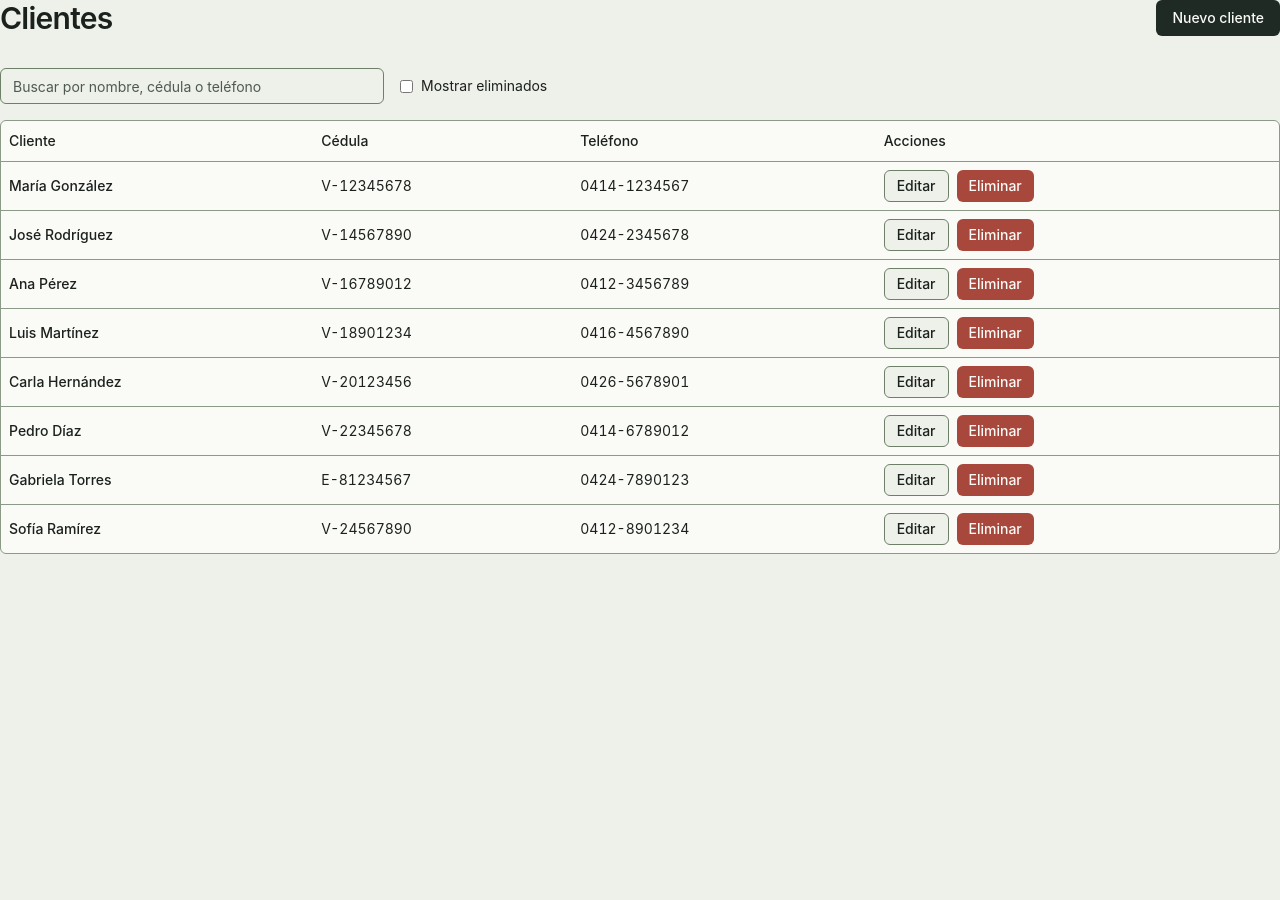
Scenario: ClientsPage › un alta con la cédula de un cliente eliminado ofrece reactivarlo y lo devuelve a la lista
This screenshot has width=1280, height=900.
Click the button "Nuevo cliente" at (1218,18), box 1156,0 -> 1279,36
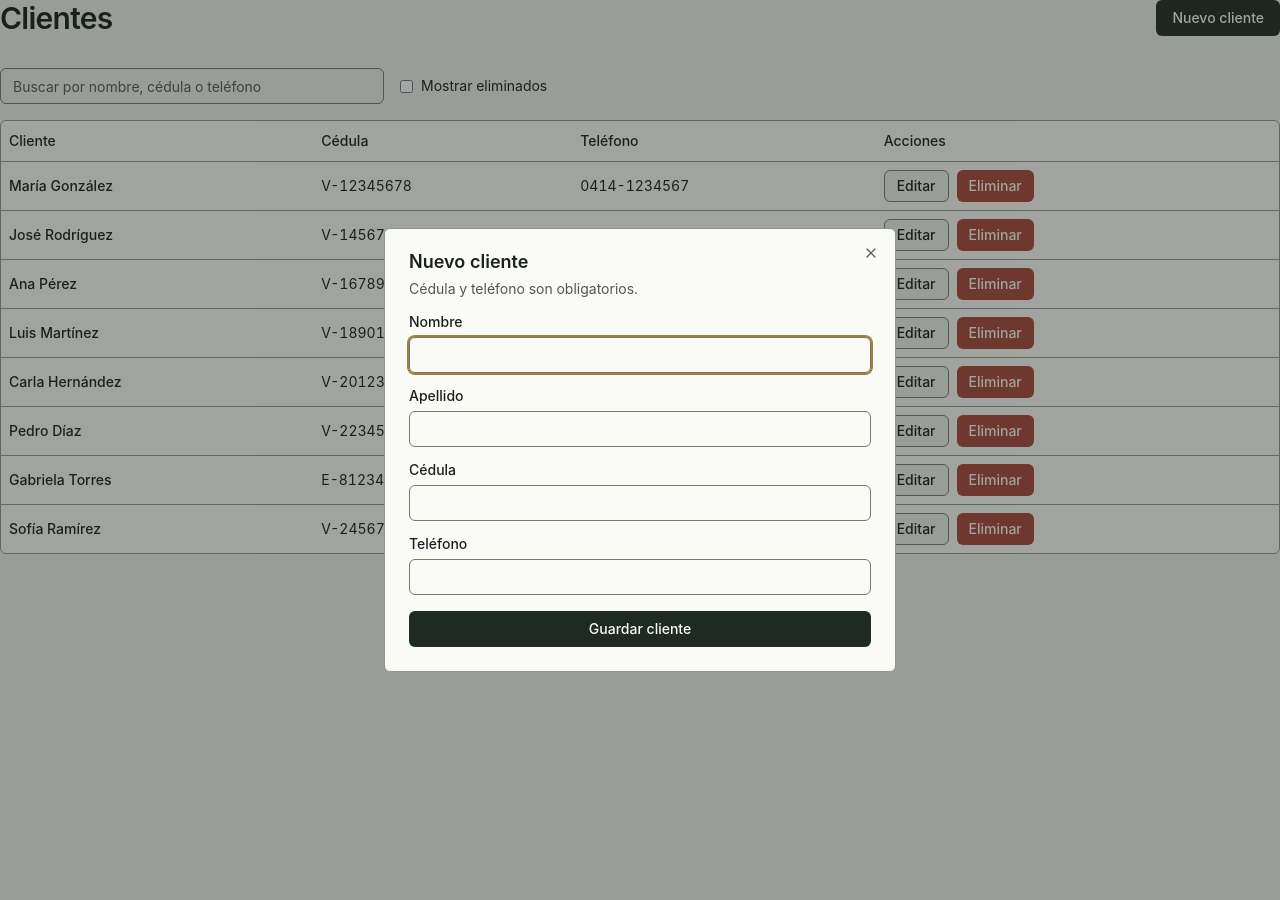
Type "Otro" into the field labelled "Nombre" at (640,355), box 409,337 -> 871,373
Type "Nombre" into the field labelled "Apellido" at (640,429), box 409,411 -> 871,447
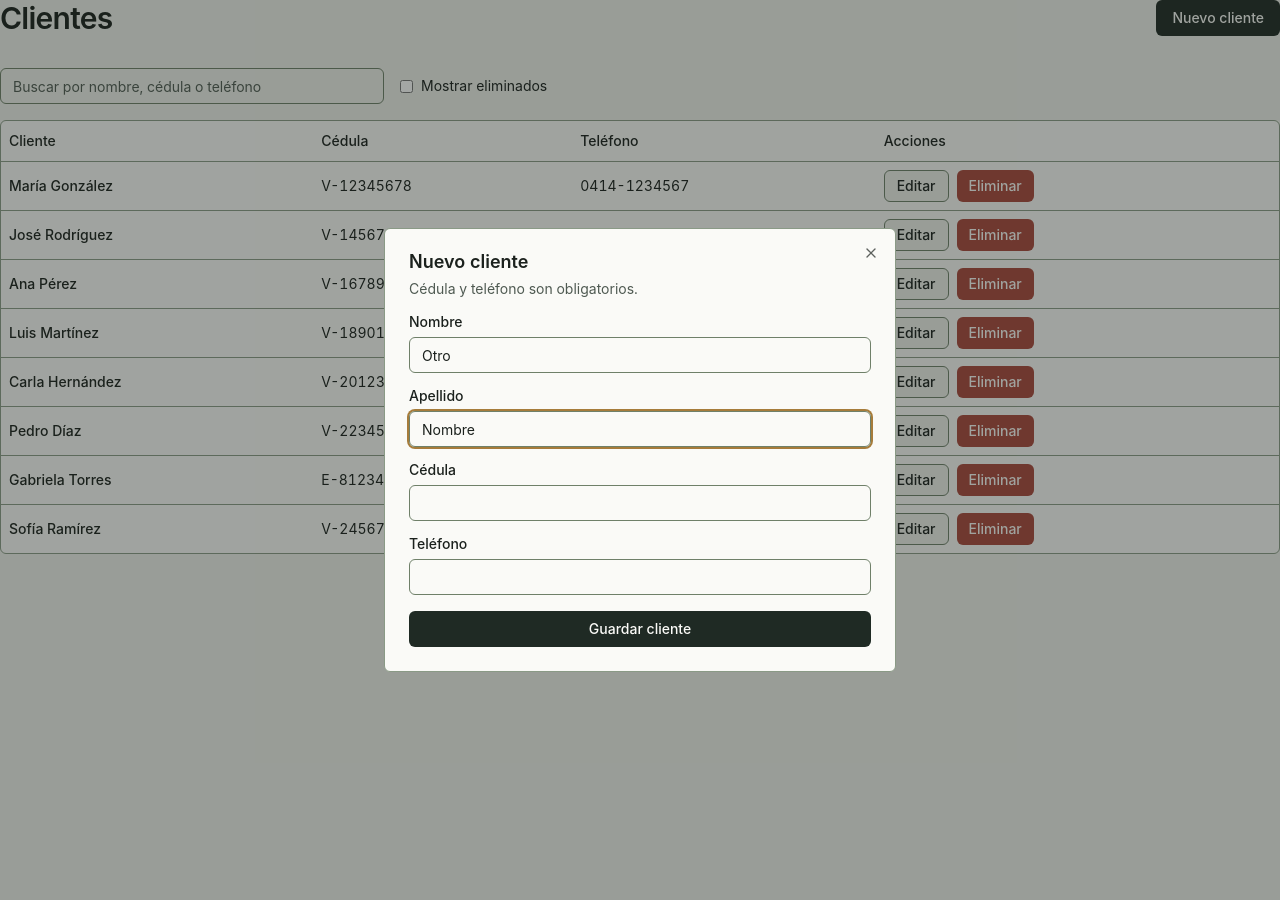
Type "v-26789012" into the field labelled "Cédula" at (640,503), box 409,485 -> 871,521
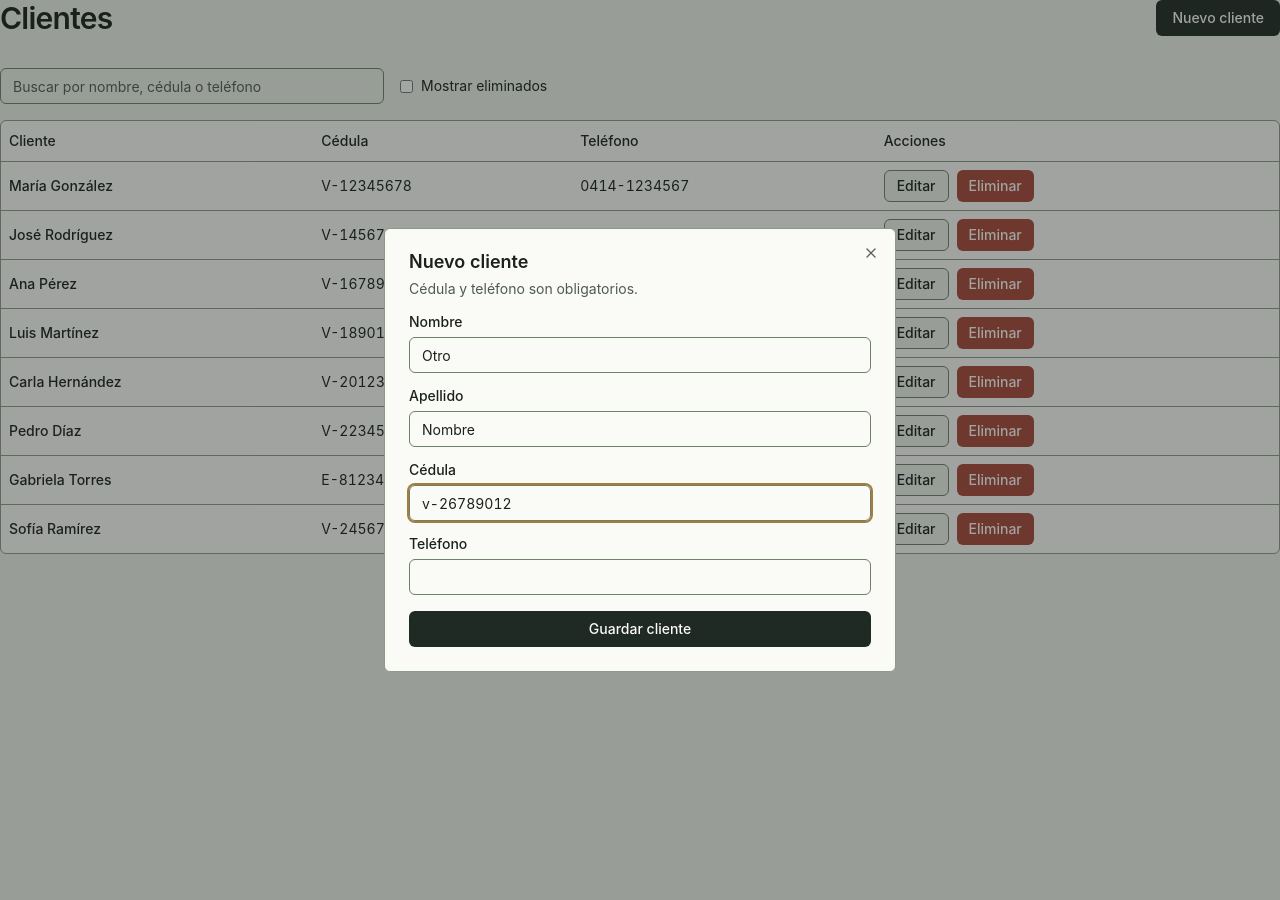
Type "0414-5550000" into the field labelled "Teléfono" at (640,577), box 409,559 -> 871,595
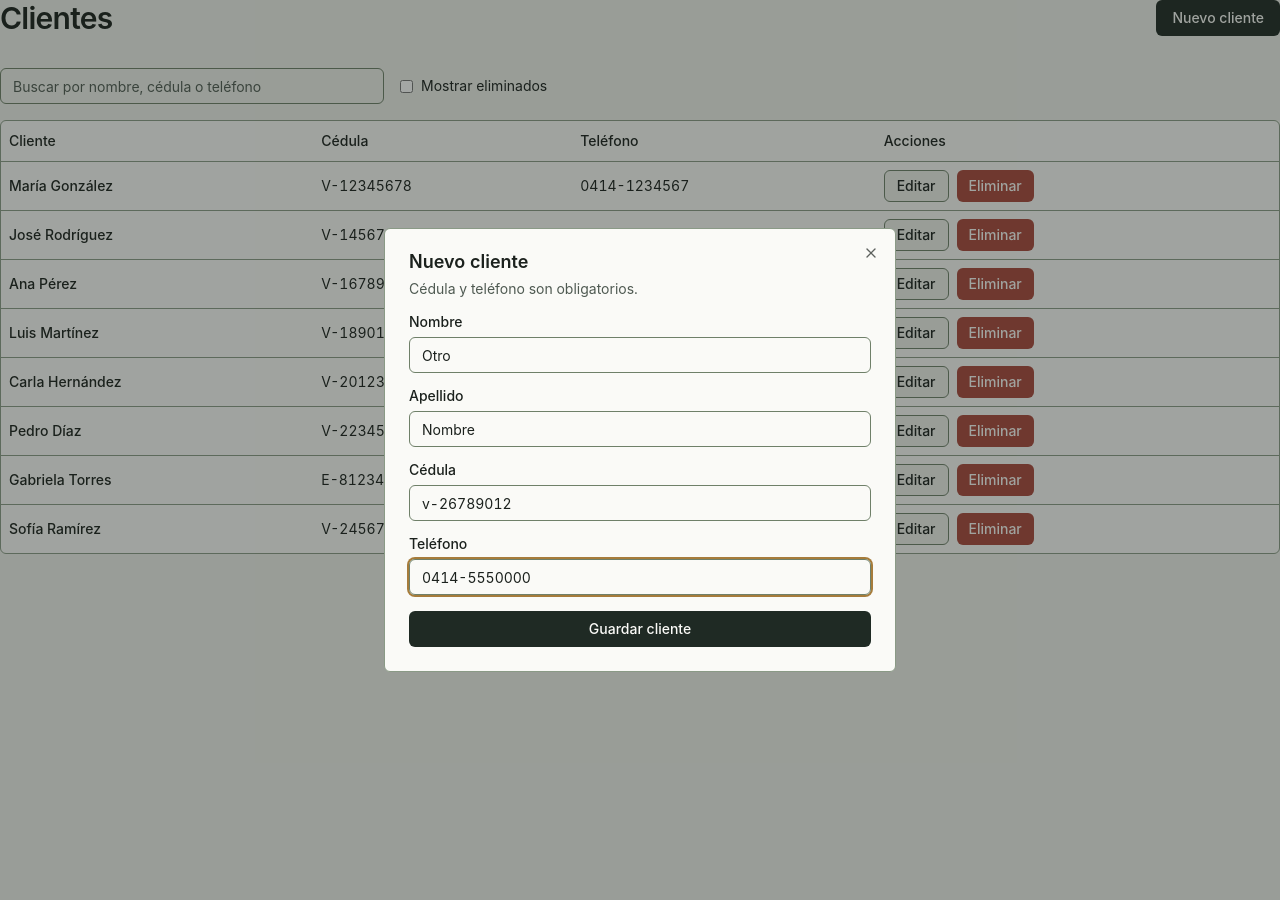
Click the button "Guardar cliente" at (640,629), box 409,611 -> 871,647
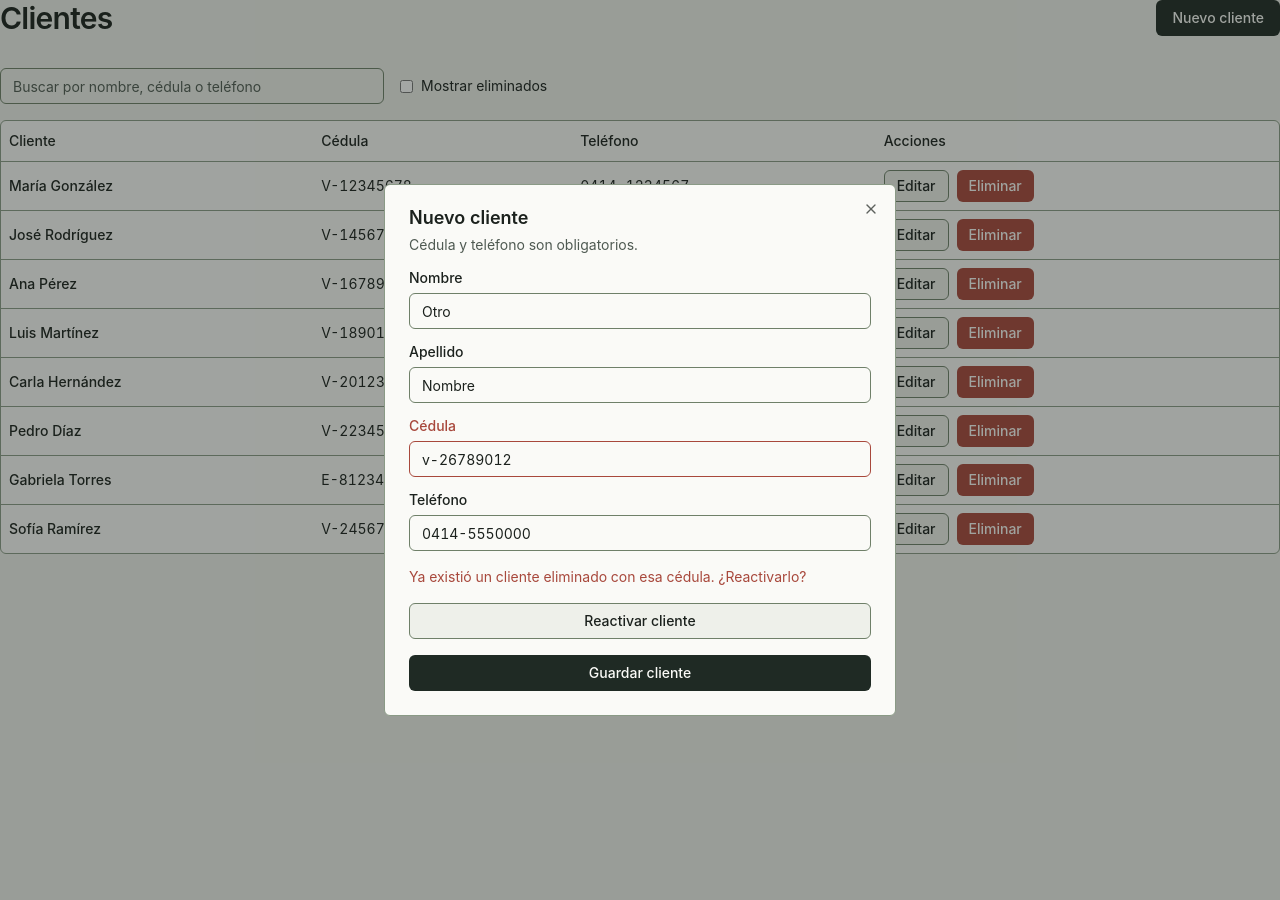
Click the button "Reactivar cliente" at (640,621), box 409,603 -> 871,639
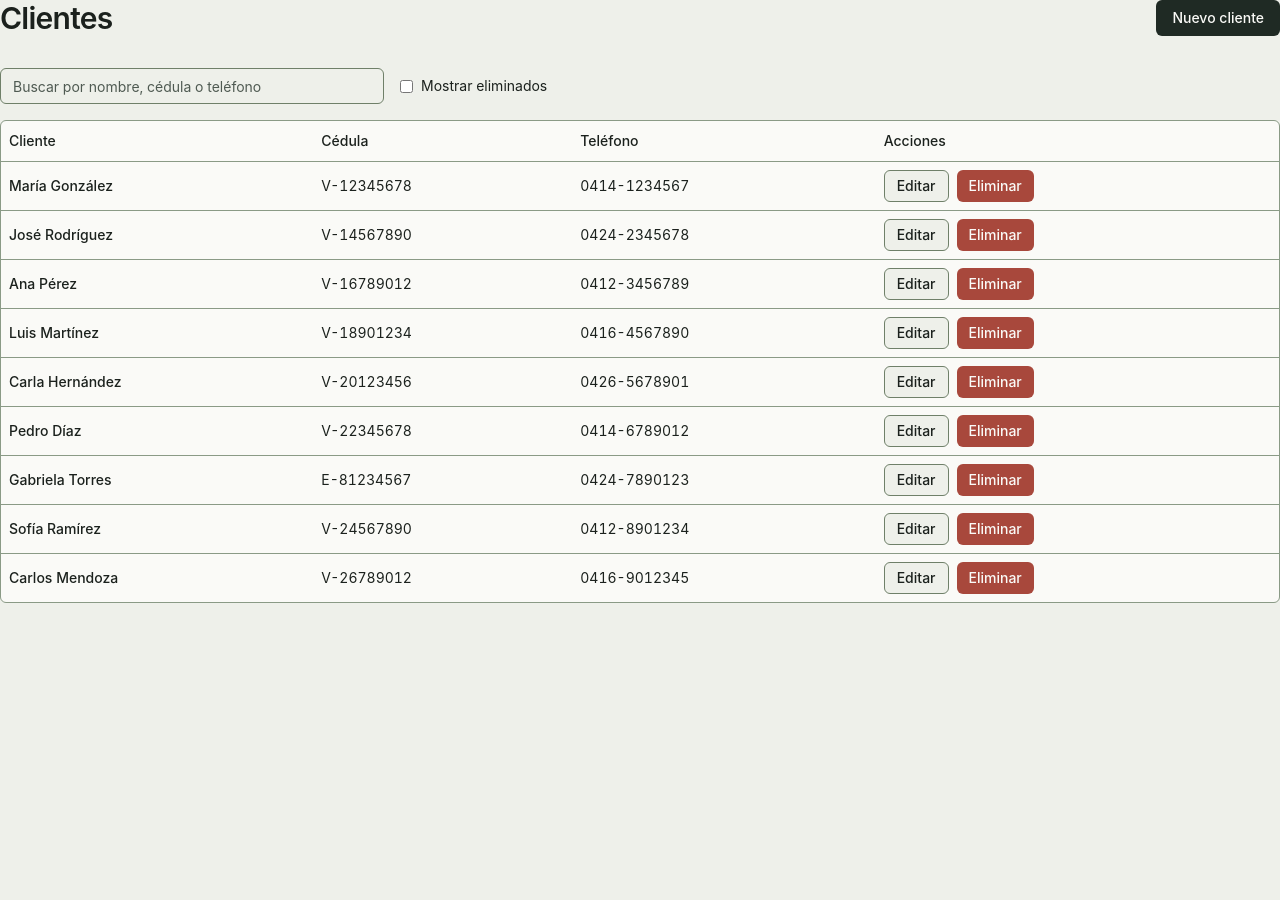
Check: the dialog is gone
Check: the link "Carlos Mendoza" is shown, box 9,568 -> 118,586
